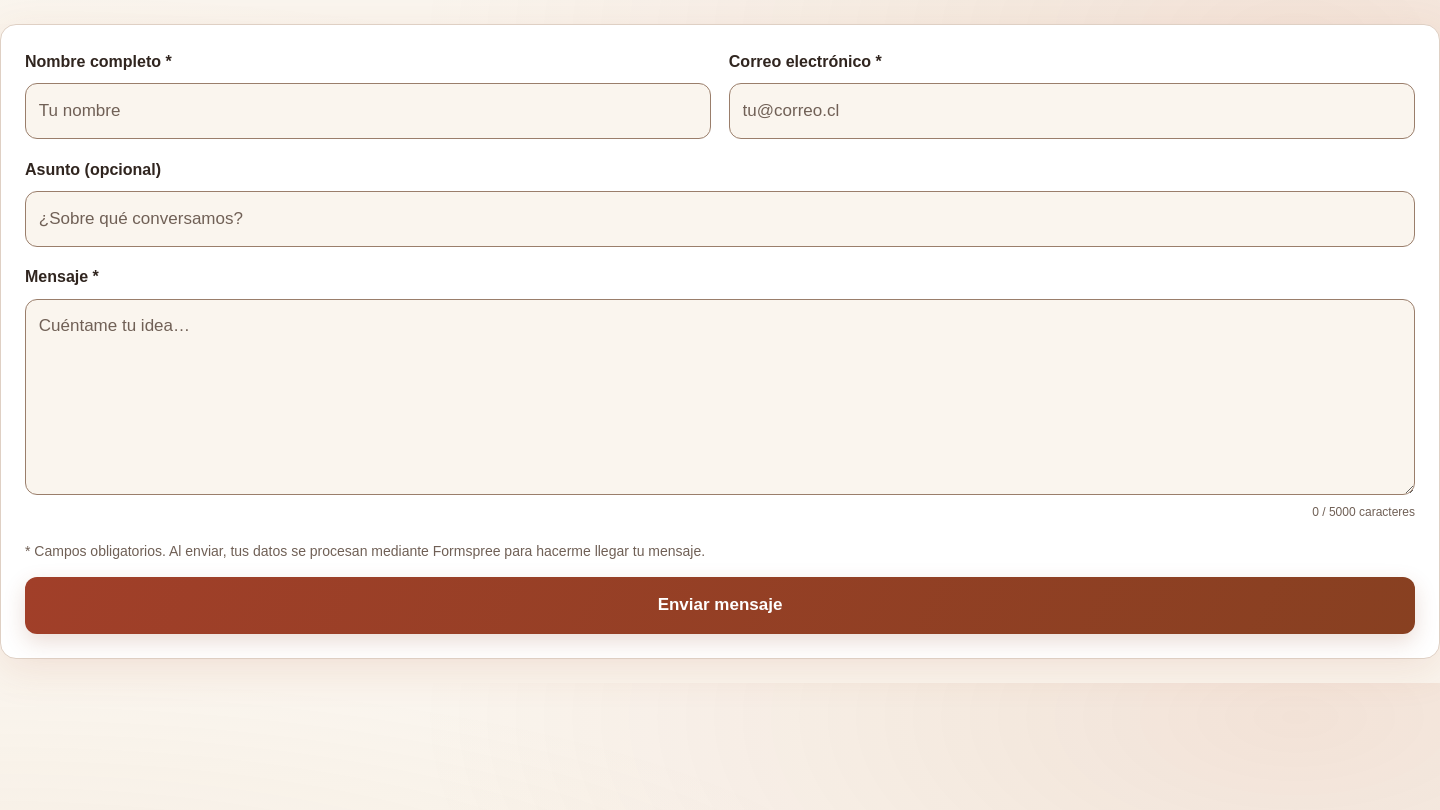
Test: Formulario de contacto › conserva el mensaje ante un error HTTP 429 y permite reintentar
Type "  Matías  " into the field labelled "Nombre completo *".
click(368, 111); type("  Matías  ")  # box [25, 83, 711, 139]
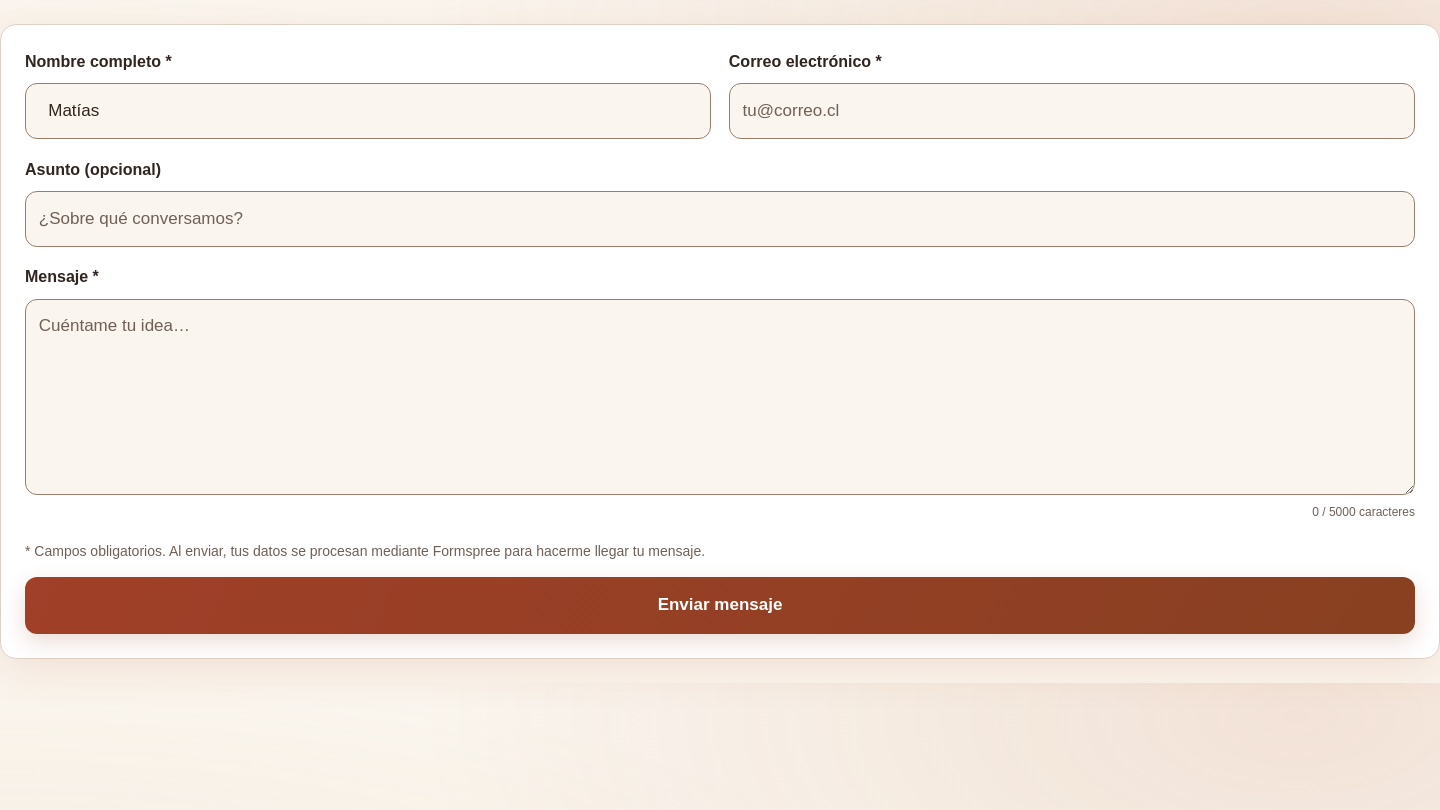
Type "matias@example.com" into the field labelled "Correo electrónico *".
click(1072, 111); type("matias@example.com")  # box [729, 83, 1415, 139]
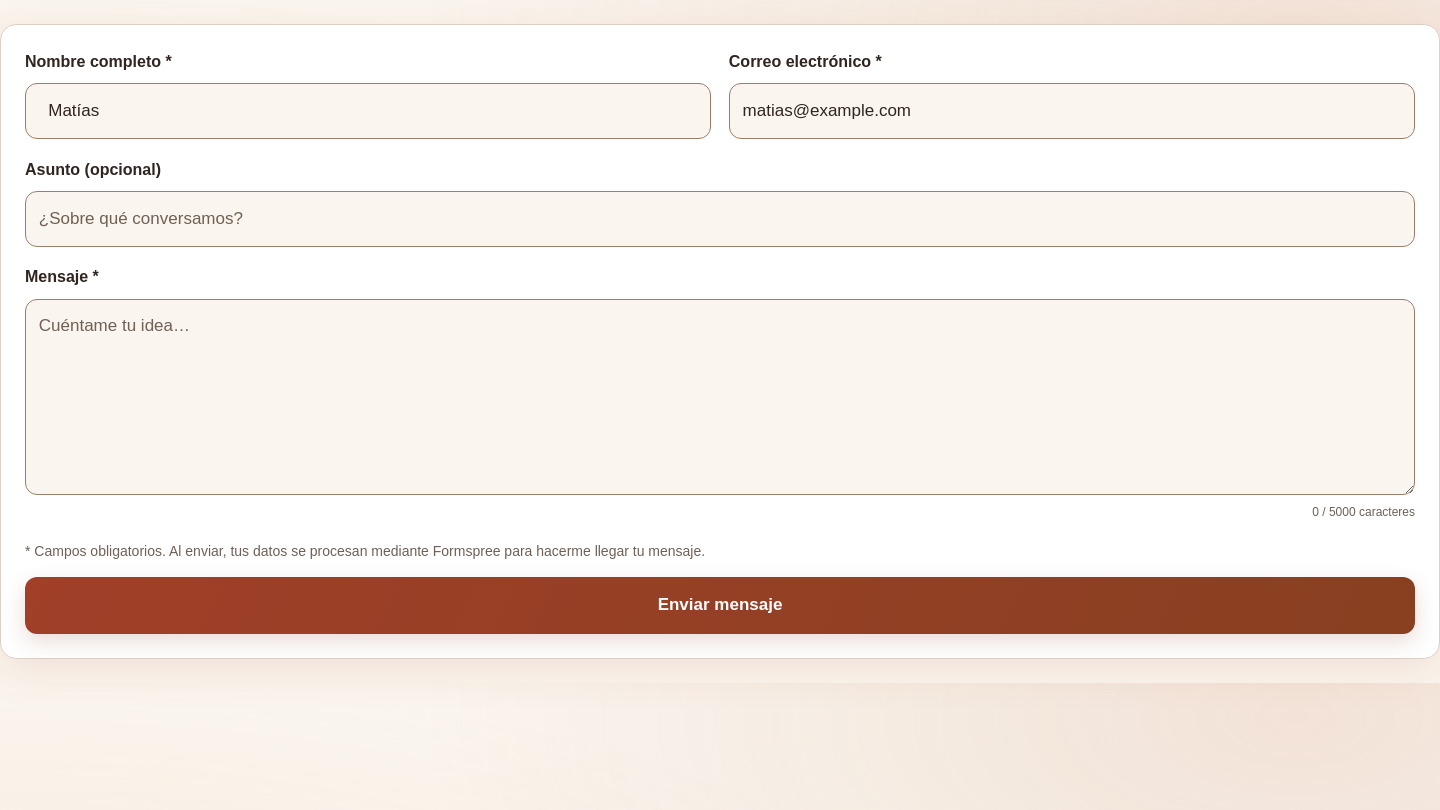
Type "  Consulta  " into the field labelled "Asunto (opcional)".
click(720, 219); type("  Consulta  ")  # box [25, 191, 1415, 247]
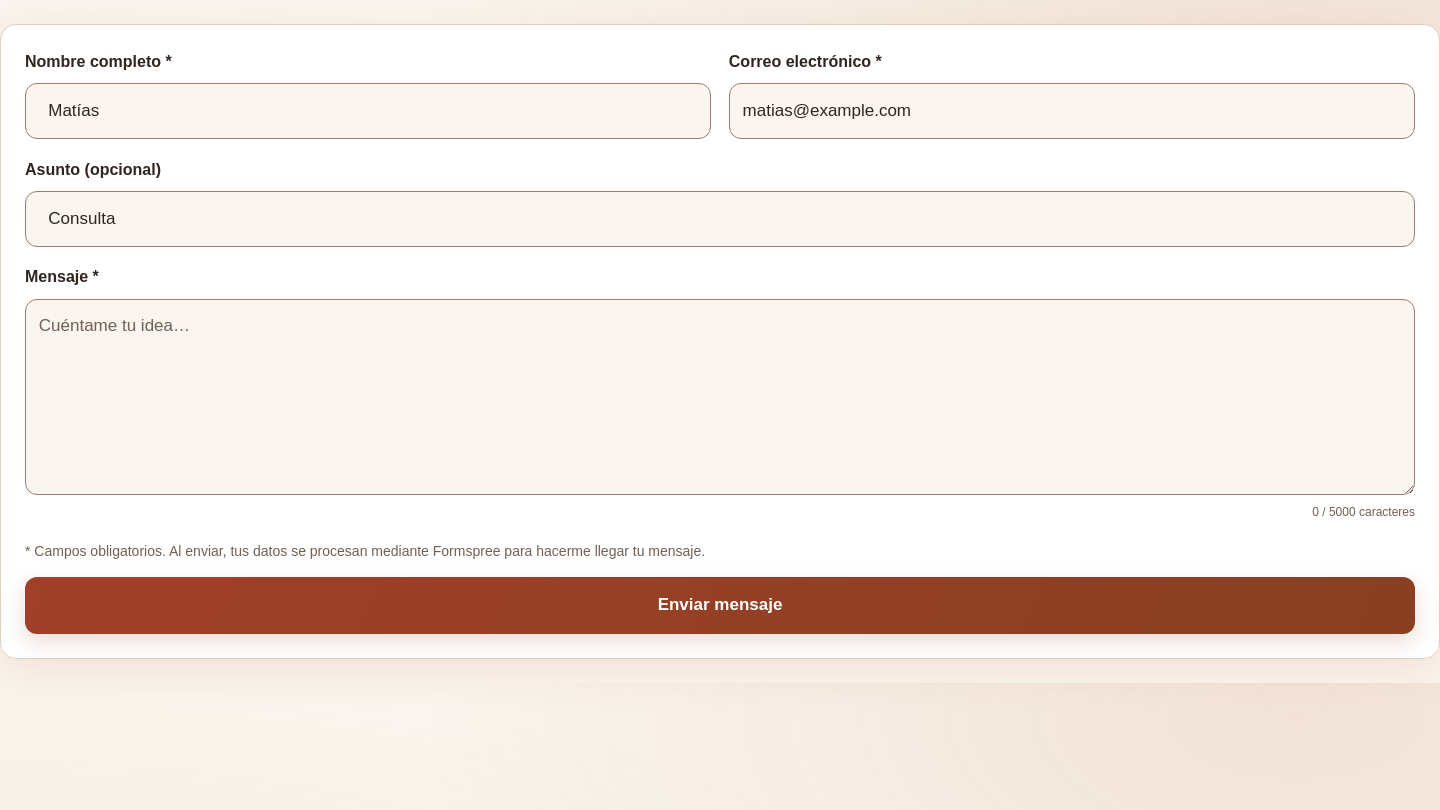
Type "  Quiero conversar sobre un proyecto.  " into the text box labelled "Mensaje *".
click(720, 397); type("  Quiero conversar sobre un proyecto.  ")  # box [25, 299, 1415, 494]
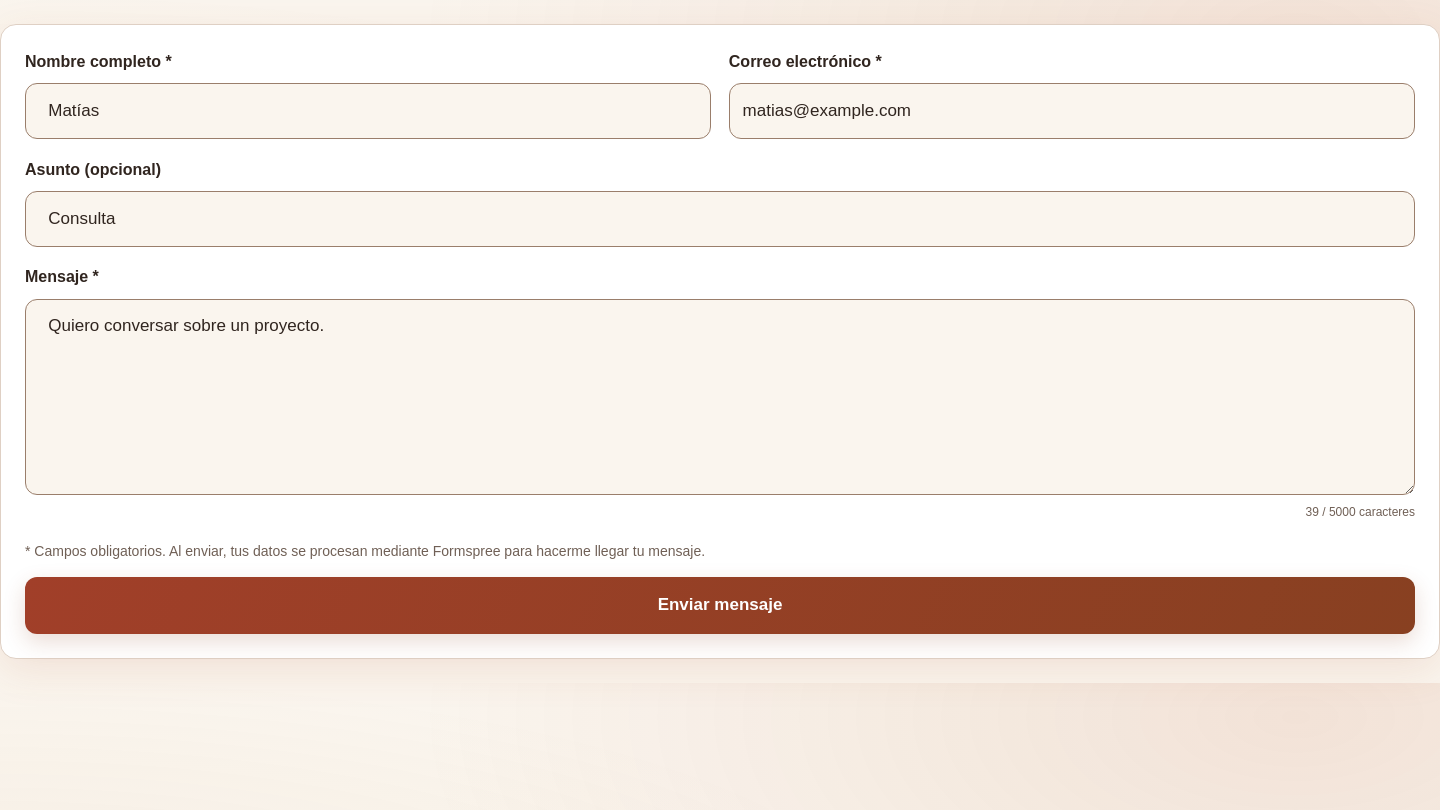
Submit the form
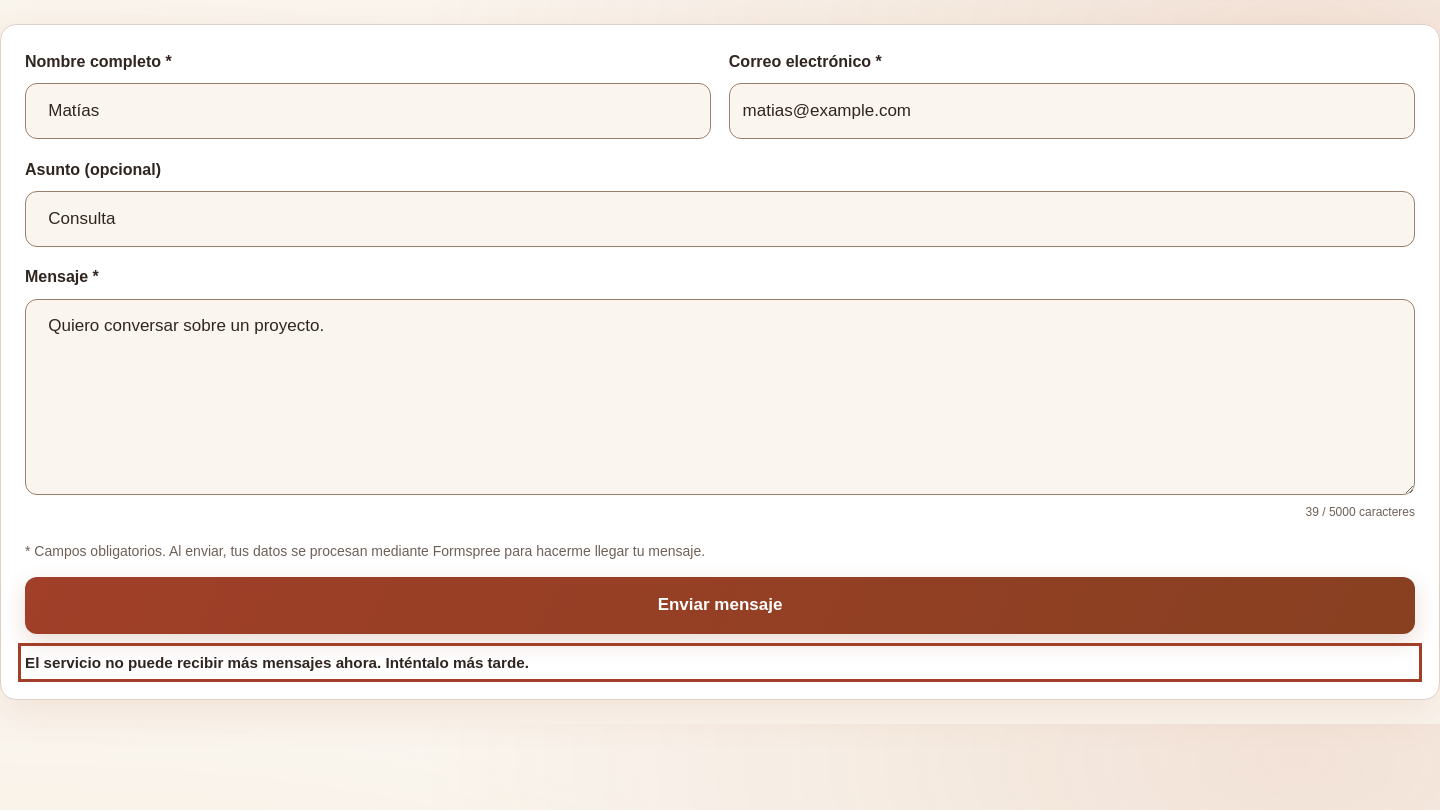
Check: the message shows "más mensajes", box [25, 654, 529, 671]
Submit the form
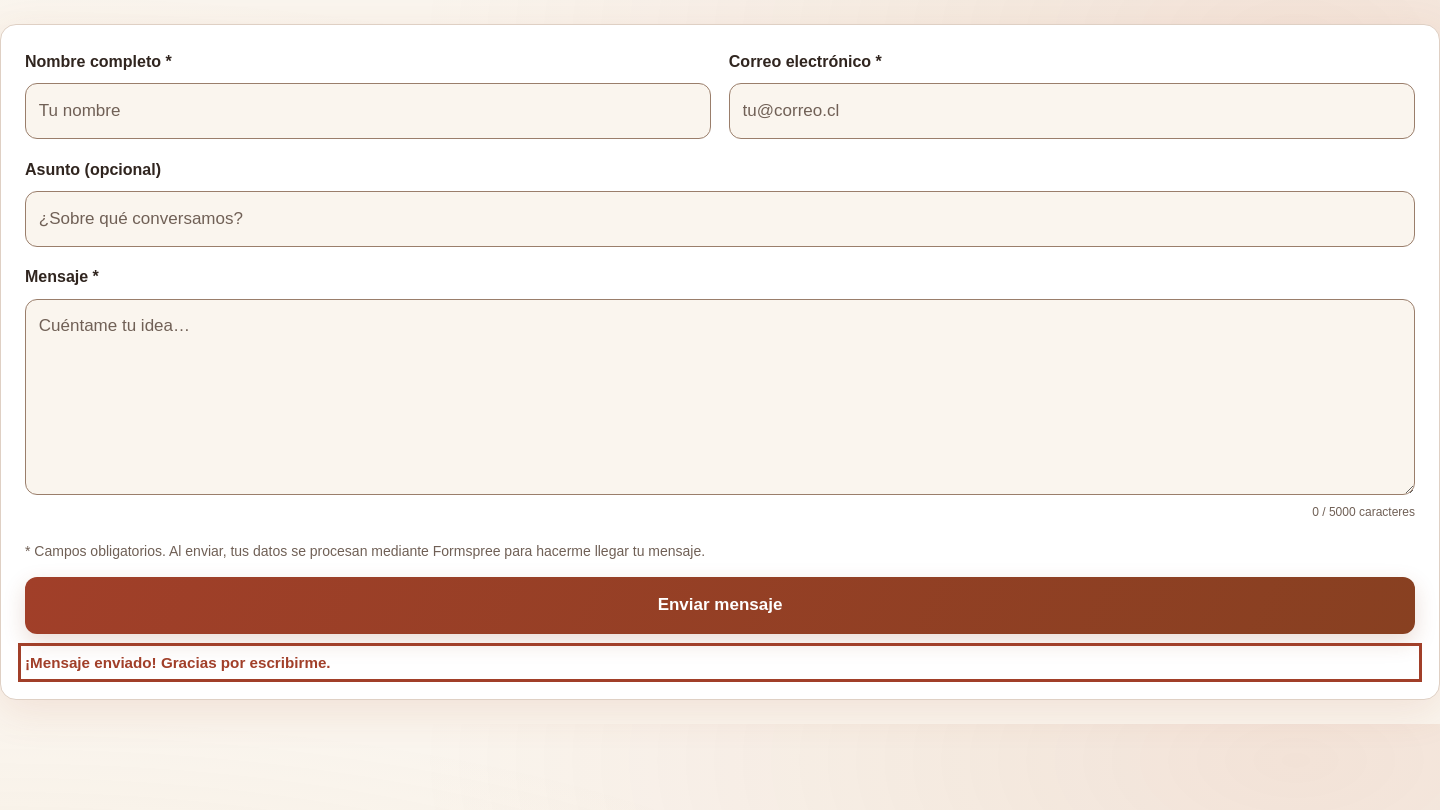
Check: the message shows "¡Mensaje enviado!", box [25, 654, 331, 671]
